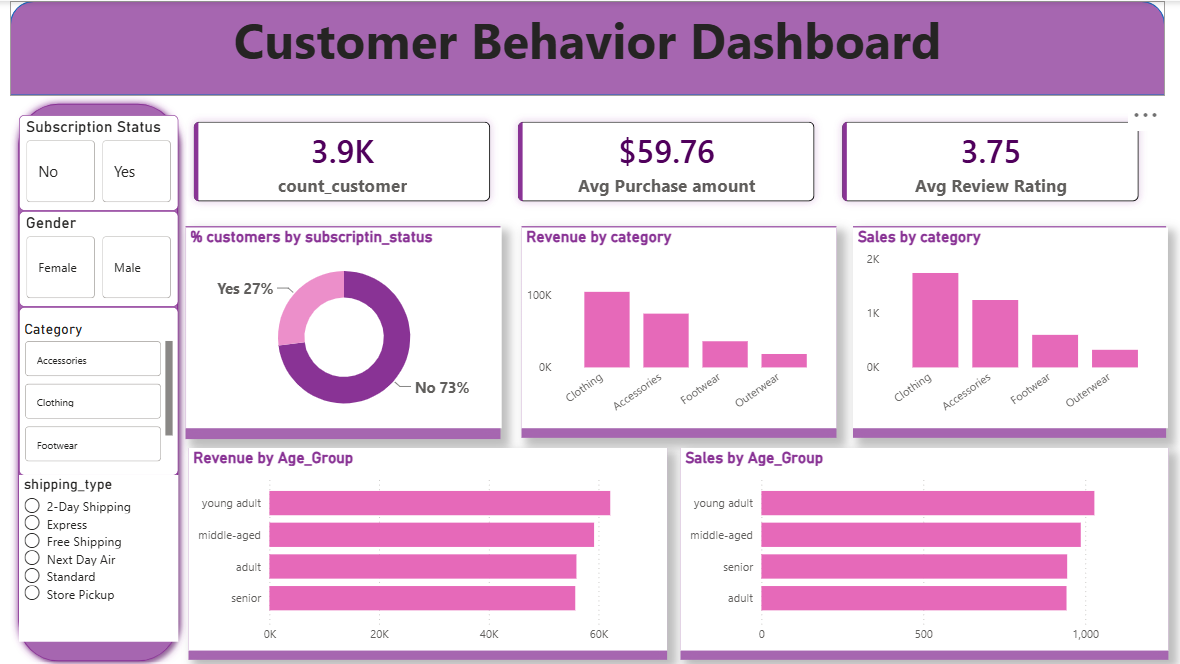

The dashboard page shown, as its layout file describes it:
{"tool":"powerbi","page":{"name":"Page 1","canvas":[1280,720],"ordinal":0},"visuals":[{"type":"cardVisual","fields":{"Data":["public customer.count_customer","public customer.Avg Purchase amount","public customer.Avg Review Rating"]},"box":[186.2,102,1076.8,142.5],"z":0},{"type":"shape","box":[16.2,0,1246.8,102],"z":1000},{"type":"textbox","box":[16.2,0,1246.8,102],"z":2000},{"type":"shape","box":[205.6,242.9,340,229.9],"z":3000},{"type":"donutChart","title":"% customers by subscriptin_status","fields":{"Category":["public customer.subscription_status"],"Y":["public customer.count_customer"]},"box":[205.6,244.5,341.7,217],"z":4000},{"type":"shape","box":[569.1,243,340.3,228.9],"z":5000},{"type":"shape","box":[925.6,243,338.2,228.9],"z":6000},{"type":"clusteredColumnChart","title":"Revenue by category","fields":{"Y":["Sum(public customer.purchase_amount)"],"Category":["public customer.category"]},"box":[569.1,245.1,340.3,216.7],"z":7000},{"type":"clusteredColumnChart","title":"Sales by category","fields":{"Category":["public customer.category"],"Y":["CountNonNull(public customer.customer_id)"]},"box":[925.6,245.1,340.3,216.7],"z":8000},{"type":"shape","box":[16.2,101.3,190.4,619.7],"z":9000},{"type":"advancedSlicerVisual","title":"Subscription Status","fields":{"Values":["public customer.subscription_status"]},"box":[26.3,123.5,172.2,103.3],"z":10000},{"type":"advancedSlicerVisual","title":"Gender","fields":{"Values":["public customer.gender"]},"box":[26.3,226.8,172.2,103.3],"z":11000},{"type":"advancedSlicerVisual","title":"Category","fields":{"Values":["public customer.category"]},"box":[26.3,330.1,172.2,182.3],"z":12000},{"type":"listSlicer","fields":{"Values":["public customer.shipping_type"]},"box":[26.3,512.4,172.2,180.3],"z":13000},{"type":"shape","box":[208.6,482,516.5,228.9],"z":15000},{"type":"clusteredBarChart","title":"Revenue by Age_Group","fields":{"Y":["Sum(public customer.purchase_amount)"],"Category":["public customer.age_group"]},"box":[208.6,482,516.5,218.7],"z":15500},{"type":"shape","box":[739.2,482,526.6,228.9],"z":15501},{"type":"clusteredBarChart","title":"Sales by Age_Group","fields":{"Category":["public customer.age_group"],"Y":["CountNonNull(public customer.customer_id)"]},"box":[739.2,482,526.6,218.7],"z":15502}]}

Visuals, with their boxes in screenshot pixels (x1, y1, x2, y2), scaled from the page's 1280x720 canvas onto the 1180x664 screenshot:
cardVisual - public customer.count_customer x public customer.Avg Purchase amount: (x1=172, y1=94, x2=1164, y2=225)
shape: (x1=15, y1=0, x2=1164, y2=94)
textbox: (x1=15, y1=0, x2=1164, y2=94)
shape: (x1=190, y1=224, x2=503, y2=436)
"% customers by subscriptin_status" donutChart: (x1=190, y1=225, x2=505, y2=426)
shape: (x1=525, y1=224, x2=838, y2=435)
shape: (x1=853, y1=224, x2=1165, y2=435)
"Revenue by category" clusteredColumnChart: (x1=525, y1=226, x2=838, y2=426)
"Sales by category" clusteredColumnChart: (x1=853, y1=226, x2=1167, y2=426)
shape: (x1=15, y1=93, x2=190, y2=663)
"Subscription Status" advancedSlicerVisual: (x1=24, y1=114, x2=183, y2=209)
"Gender" advancedSlicerVisual: (x1=24, y1=209, x2=183, y2=304)
"Category" advancedSlicerVisual: (x1=24, y1=304, x2=183, y2=473)
listSlicer - public customer.shipping_type: (x1=24, y1=473, x2=183, y2=639)
shape: (x1=192, y1=445, x2=668, y2=656)
"Revenue by Age_Group" clusteredBarChart: (x1=192, y1=445, x2=668, y2=646)
shape: (x1=681, y1=445, x2=1167, y2=656)
"Sales by Age_Group" clusteredBarChart: (x1=681, y1=445, x2=1167, y2=646)
